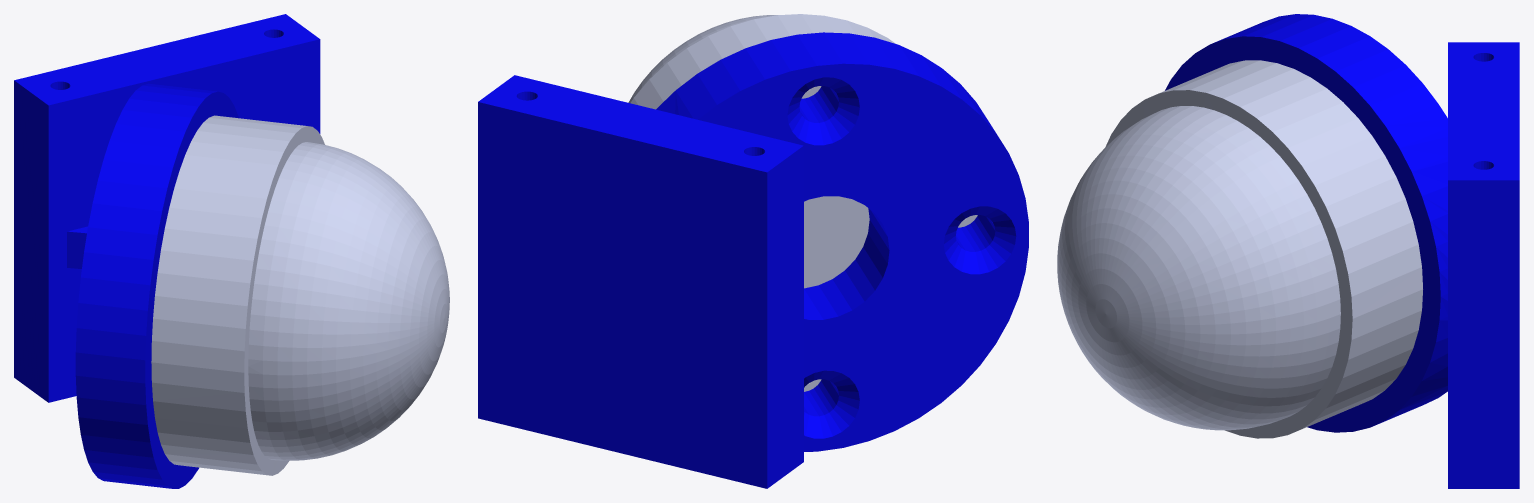
Rendered from OptoforceTip.dae.
3 views of the same model, side by side, from view 1: azimuth 30°, elevation 25°; view 2: azimuth 150°, elevation 25°; view 3: azimuth 270°, elevation 25° (orthographic). The views are drawn at different scales.
Parts seen in each view (by area): view 1: Node_0x564ab0898540, Node_0x564ab08980a0; view 2: Node_0x564ab08980a0, Node_0x564ab0898540; view 3: Node_0x564ab0898540, Node_0x564ab08980a0.
Boxes of the visible parts, box(x1,y1,x2,y2) form: Node_0x564ab0898540: box(151, 115, 449, 475); Node_0x564ab08980a0: box(14, 14, 320, 488); Node_0x564ab08980a0: box(478, 32, 1028, 488); Node_0x564ab0898540: box(628, 14, 977, 391); Node_0x564ab0898540: box(1057, 60, 1422, 438); Node_0x564ab08980a0: box(1165, 14, 1519, 488).
Size of the model in its own units: 0.0262 by 0.025 by 0.0278.
